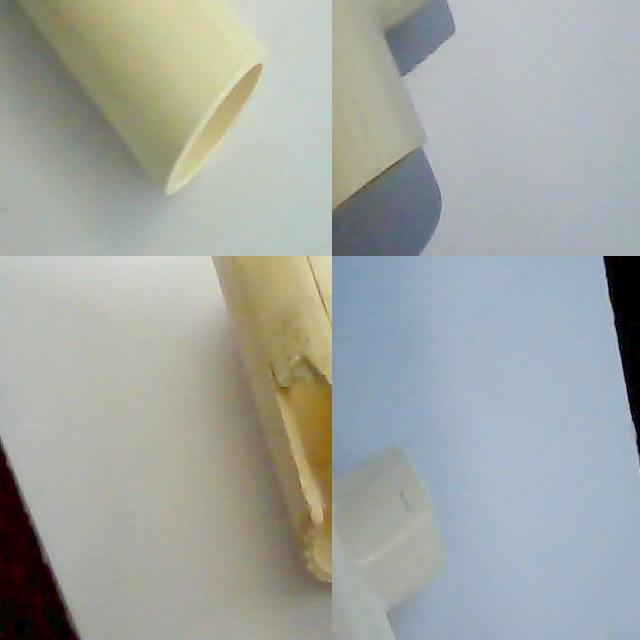Defective: (270, 354, 332, 529), (270, 356, 332, 522)
T Joint: (13, 0, 271, 199), (209, 256, 332, 588), (332, 448, 445, 640)
